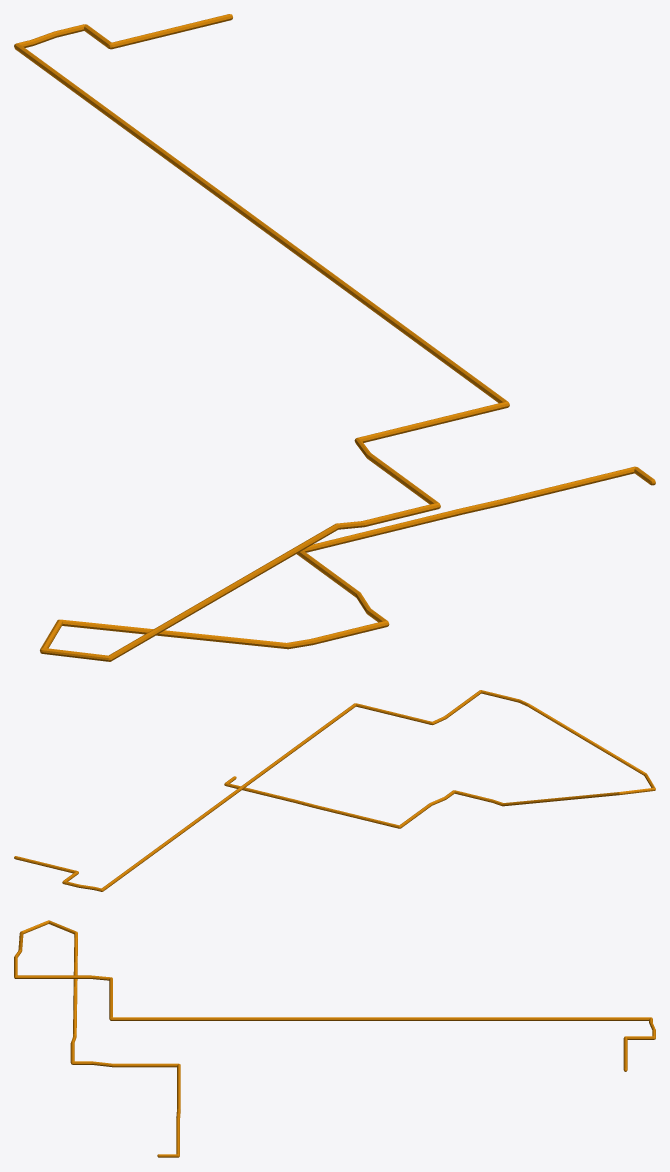
3 renders of one model, top to bottom at view 1: azimuth 30°, elevation 25°; view 2: azimuth 150°, elevation 25°; view 3: azimuth 270°, elevation 25°, orthographic. The views are drawn at different scales.
Size of the model in its own units: 2406 by 520 by 3390.
